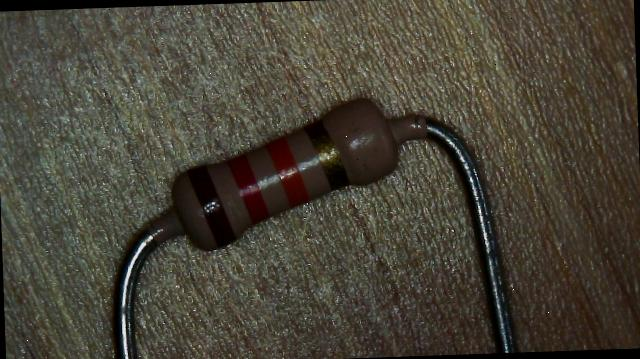brown: (188, 165, 226, 246)
gold: (310, 118, 341, 188)
orange: (272, 137, 306, 209)
red: (230, 152, 260, 228)
resistor: (154, 71, 427, 275)
